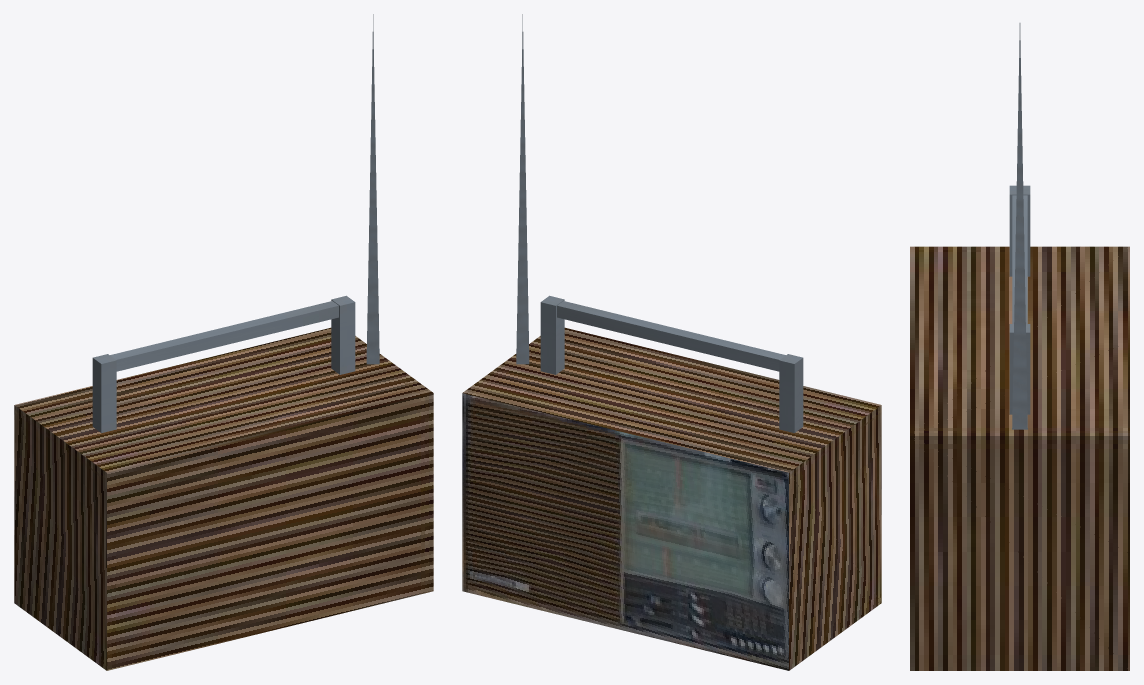
The model's file is radio.glb.
3 renders of one model, left to right at view 1: azimuth 30°, elevation 25°; view 2: azimuth 150°, elevation 25°; view 3: azimuth 270°, elevation 25°, orthographic. The views are drawn at different scales.
Parts seen in each view (by area): view 1: Radio; view 2: Radio; view 3: Radio.
Part boxes in pixels (x1=…): Radio: x1=14, y1=14, x2=433, y2=670; Radio: x1=462, y1=14, x2=881, y2=670; Radio: x1=910, y1=23, x2=1129, y2=670.
Bounding box in the file's own units: 0.6374 × 1.02 × 0.313.
Materials: 2 (2 with a texture image).
